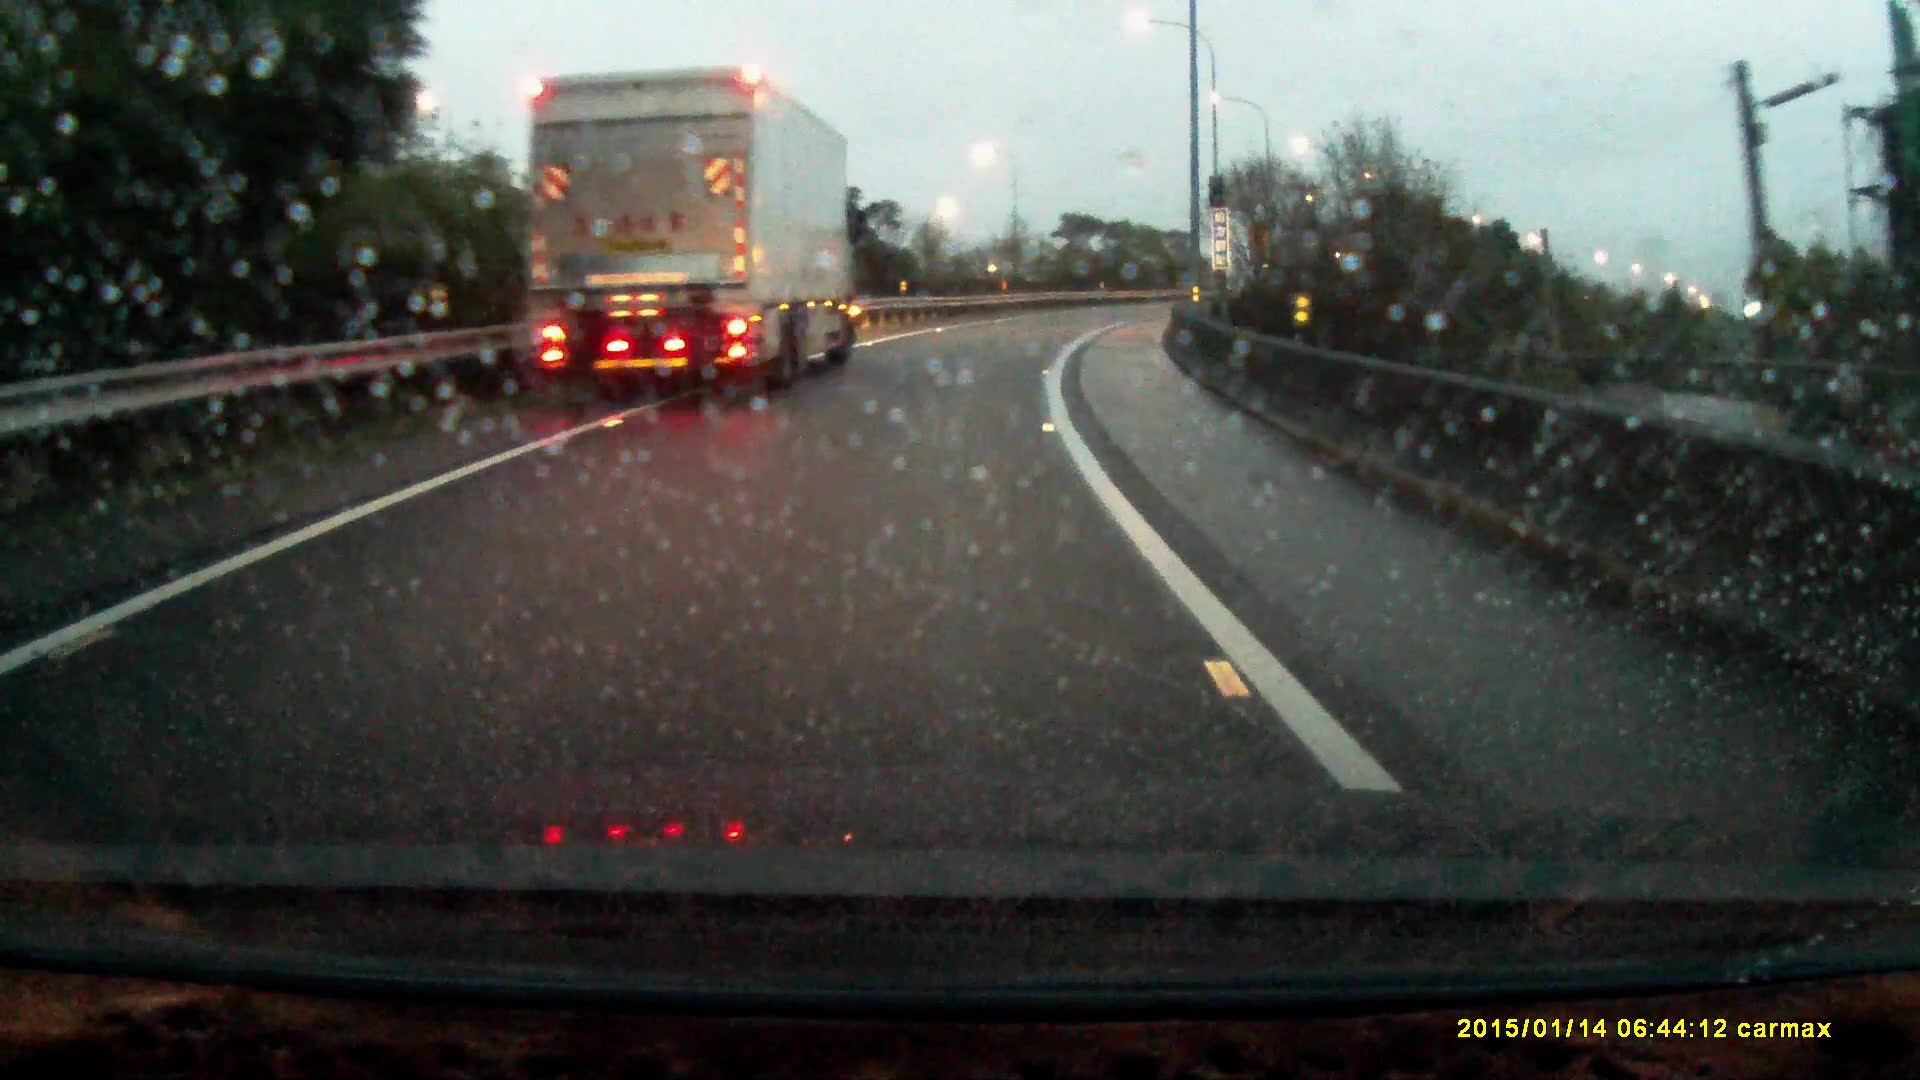vehicle: (520, 66, 860, 396)
